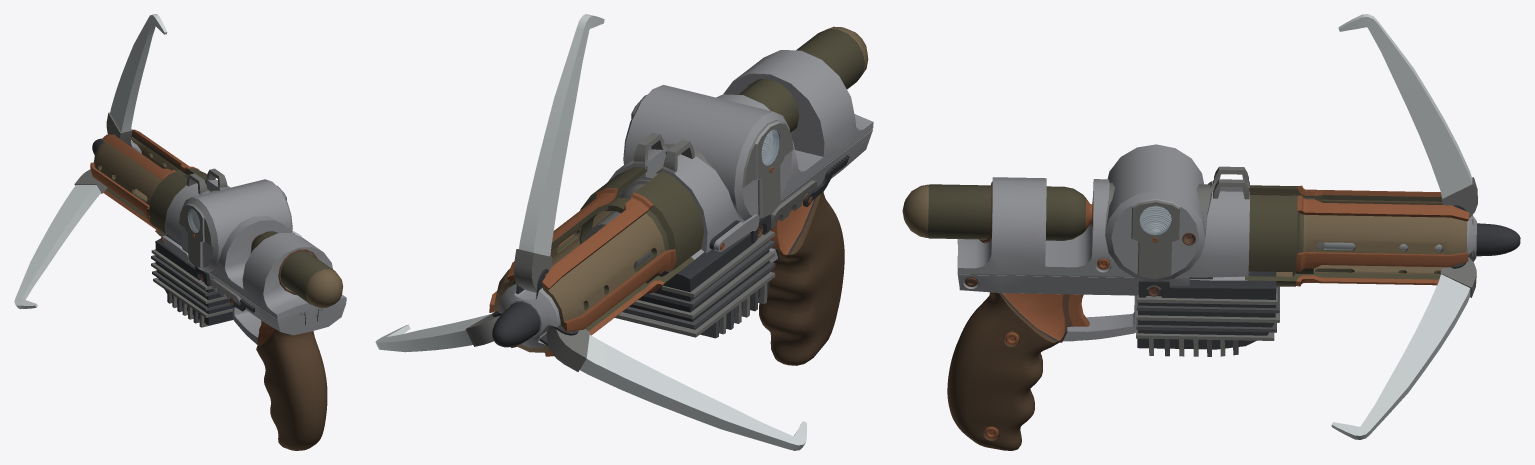
Rendered from hookgunRedux5.fbx.
The picture shows the model from 3 angles, left to right: view 1: azimuth 30°, elevation 25°; view 2: azimuth 150°, elevation 25°; view 3: azimuth 270°, elevation 25°; orthographic projection. The views are drawn at different scales.
Parts seen in each view (by area): view 1: Cylinder.002_LIGHT metall_0, Cube.001_wood_0, Cylinder.004_LIGHT metall_0, Cube.026_metall kryk_0, Cylinder_paint metal_0, Cube.025_metall kryk_0, Cylinder.010_metal cooper _0, Cylinder_dark paint metal_0, Cube_Dark metall_0, Cylinder.003_dark paint metal_0, Cube.010_main metall_0, Cylinder.003_paint metal_0 (+5 smaller); view 2: Cylinder.002_LIGHT metall_0, Cylinder.004_LIGHT metall_0, Cube.001_wood_0, Cube.026_metall kryk_0, Cylinder_paint metal_0, Cube.025_metall kryk_0, Cylinder.010_metal cooper _0, Cylinder_dark paint metal_0, Cylinder.003_dark paint metal_0, Cube_Dark metall_0, Cube.010_main metall_0, Cube.010_bottom metall _0 (+15 smaller); view 3: Cylinder.002_LIGHT metall_0, Cube.001_wood_0, Cylinder.004_LIGHT metall_0, Cylinder_paint metal_0, Cylinder_dark paint metal_0, Cylinder.010_metal cooper _0, Cylinder.003_dark paint metal_0, Cube_Dark metall_0, Cube.025_metall kryk_0, Cube.009_metall kryk_0, Cube.010_main metall_0, Cylinder.014_main metall_0 (+11 smaller).
Part boxes in pixels (box(x1,y1,x2,y2)): Cylinder.002_LIGHT metall_0: box(164, 179, 346, 335); Cube.001_wood_0: box(256, 329, 327, 450); Cylinder.004_LIGHT metall_0: box(179, 179, 292, 271); Cube.026_metall kryk_0: box(14, 185, 101, 309); Cylinder_paint metal_0: box(93, 137, 189, 205); Cube.025_metall kryk_0: box(110, 14, 167, 132); Cylinder.010_metal cooper _0: box(90, 129, 199, 236); Cylinder_dark paint metal_0: box(98, 133, 207, 236); Cube_Dark metall_0: box(155, 238, 232, 325); Cylinder.003_dark paint metal_0: box(250, 231, 335, 306); Cube.010_main metall_0: box(151, 249, 232, 317); Cylinder.003_paint metal_0: box(305, 269, 343, 308); Cylinder.002_LIGHT metall_0: box(607, 50, 873, 259); Cylinder.004_LIGHT metall_0: box(623, 85, 792, 221); Cube.001_wood_0: box(759, 192, 844, 365); Cube.026_metall kryk_0: box(580, 334, 806, 450); Cylinder_paint metal_0: box(494, 210, 665, 352); Cube.025_metall kryk_0: box(519, 14, 604, 256); Cylinder.010_metal cooper _0: box(489, 188, 676, 356); Cylinder_dark paint metal_0: box(507, 166, 704, 330); Cylinder.003_dark paint metal_0: box(739, 29, 864, 132); Cube_Dark metall_0: box(622, 223, 769, 332); Cube.010_main metall_0: box(615, 231, 775, 337); Cube.010_bottom metall _0: box(623, 240, 775, 328); Cylinder.002_LIGHT metall_0: box(957, 177, 1249, 295); Cube.001_wood_0: box(947, 292, 1059, 450); Cylinder.004_LIGHT metall_0: box(1105, 144, 1205, 281); Cylinder_paint metal_0: box(1250, 192, 1467, 276); Cylinder_dark paint metal_0: box(1245, 185, 1443, 286); Cylinder.010_metal cooper _0: box(1295, 185, 1469, 286); Cylinder.003_dark paint metal_0: box(927, 184, 1085, 240); Cube_Dark metall_0: box(1137, 271, 1276, 349); Cube.025_metall kryk_0: box(1338, 14, 1472, 198); Cube.009_metall kryk_0: box(1331, 274, 1470, 439); Cube.010_main metall_0: box(1136, 287, 1279, 340); Cylinder.014_main metall_0: box(1131, 200, 1179, 278).
Bounding box in the file's own units: 835 × 928 × 1203.
